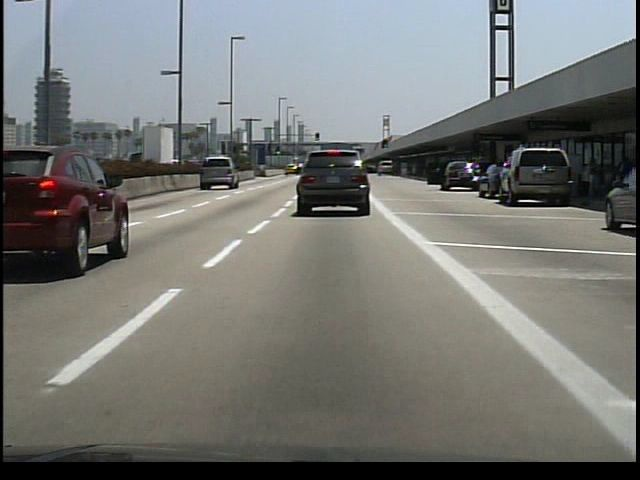person: (583, 154, 600, 200)
